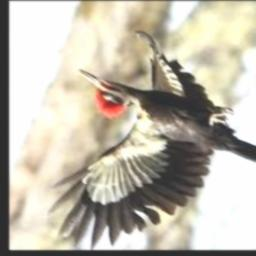Woodpecker: (48, 32, 256, 250)
